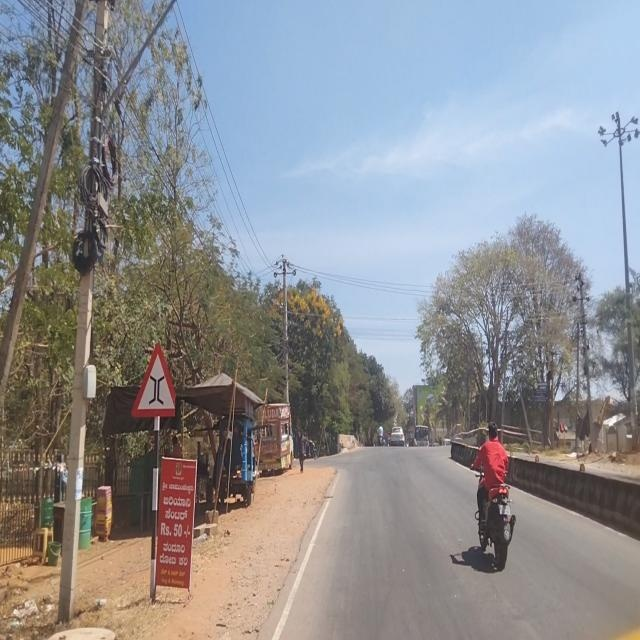bien_nguy_hiem: (130, 337, 178, 420)
